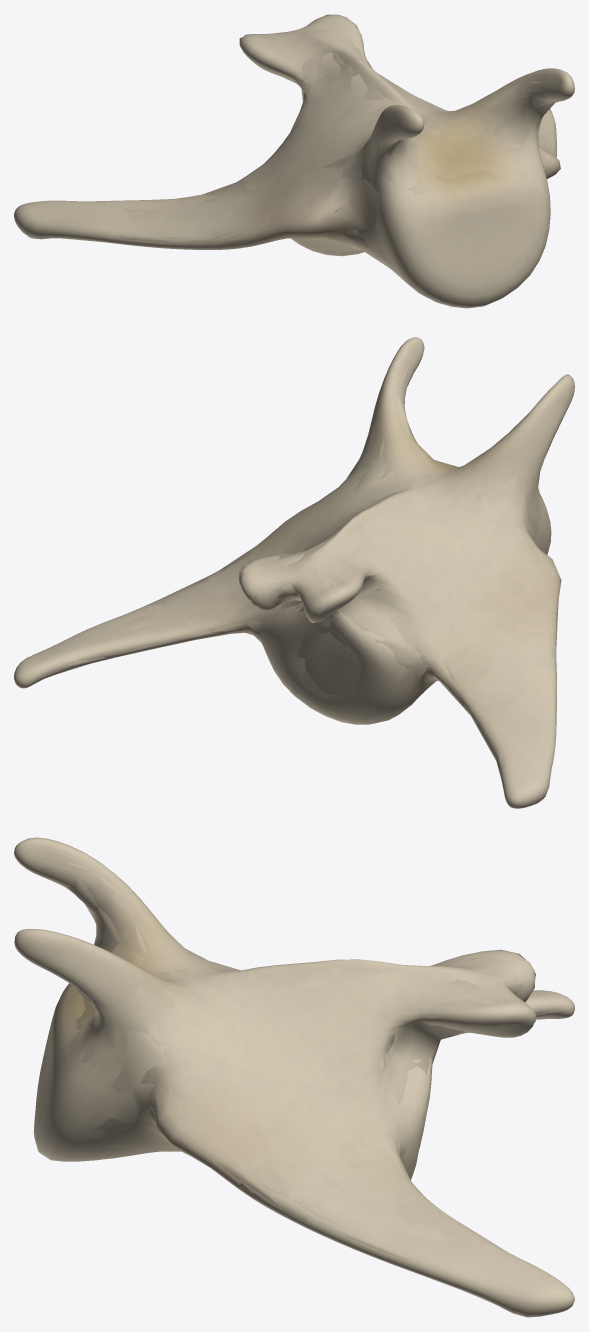
File: vertebrae caudales 01.fbx
The picture shows the model from 3 angles, top to bottom: view 1: azimuth 30°, elevation 25°; view 2: azimuth 150°, elevation 25°; view 3: azimuth 270°, elevation 25°; orthographic projection. The views are drawn at different scales.
Visible parts, largest first — view 1: vertebrae caudales 01 high, vertebrae caudales 01, vertebrae caudales 01 low; view 2: vertebrae caudales 01 high, vertebrae caudales 01, vertebrae caudales 01 low; view 3: vertebrae caudales 01 high, vertebrae caudales 01 low, vertebrae caudales 01.
Part boxes in pixels (x1,y1,x2,y2): vertebrae caudales 01 high: (14,14,574,308); vertebrae caudales 01: (40,20,556,270); vertebrae caudales 01 low: (123,27,557,266); vertebrae caudales 01 high: (14,337,574,808); vertebrae caudales 01: (35,355,558,789); vertebrae caudales 01 low: (45,368,555,777); vertebrae caudales 01 high: (14,837,574,1317); vertebrae caudales 01 low: (56,877,546,1302); vertebrae caudales 01: (35,858,562,1296).
Size of the model in its own units: 9.02 by 4.32 by 6.91.
Materials: 1 (1 with a texture image).
